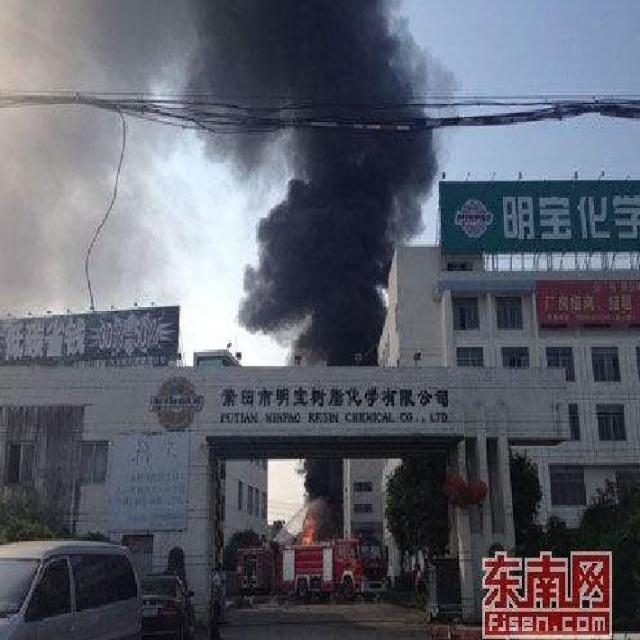Smoke: (1, 1, 458, 369)
